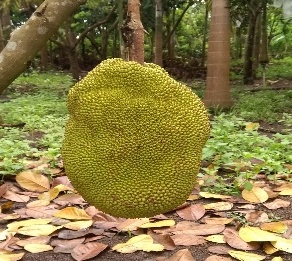Mit: (62, 59, 212, 219)
